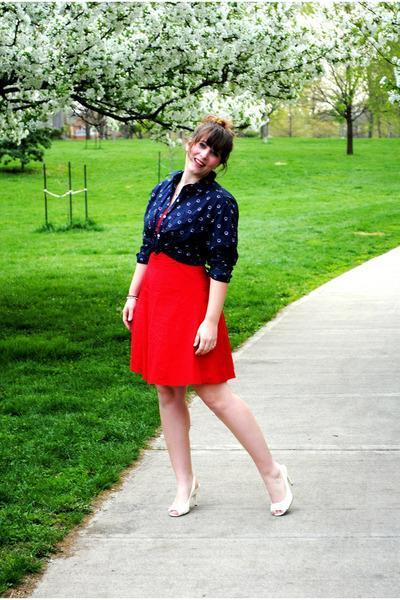shirt: (136, 162, 238, 282)
shoe: (168, 479, 292, 516)
skirt: (125, 252, 237, 385)
sunglass: (171, 180, 197, 203)
